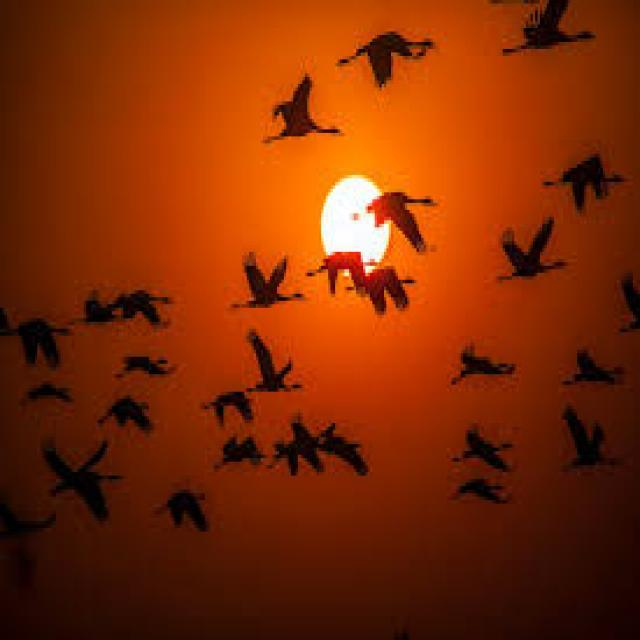bird: (530, 128, 638, 236), (246, 58, 352, 152), (43, 438, 132, 540), (320, 22, 448, 92), (358, 166, 446, 264), (554, 400, 633, 502), (484, 6, 614, 66), (483, 208, 569, 288), (438, 325, 520, 395), (230, 248, 310, 318), (16, 300, 79, 382), (155, 477, 227, 544), (308, 233, 380, 299), (235, 336, 310, 398), (267, 411, 332, 478), (449, 420, 517, 476), (568, 354, 638, 408), (100, 390, 165, 442), (448, 478, 516, 526), (118, 288, 186, 334), (319, 423, 377, 476), (360, 264, 420, 313), (205, 383, 256, 428), (212, 434, 268, 472), (119, 348, 174, 386)
